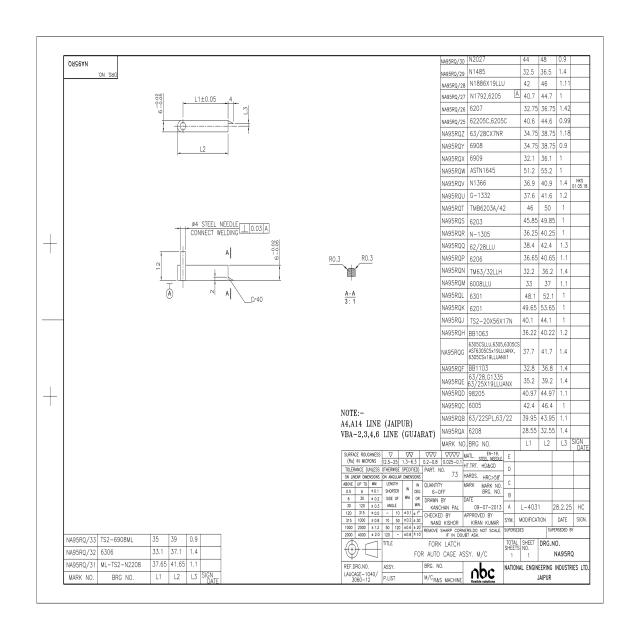dimension: (190, 220, 239, 236), (154, 92, 164, 114), (270, 239, 279, 260), (194, 94, 217, 102), (328, 255, 341, 263), (361, 254, 374, 262), (199, 144, 207, 152), (243, 105, 248, 116), (155, 262, 160, 272), (208, 288, 215, 295), (228, 96, 234, 102)
